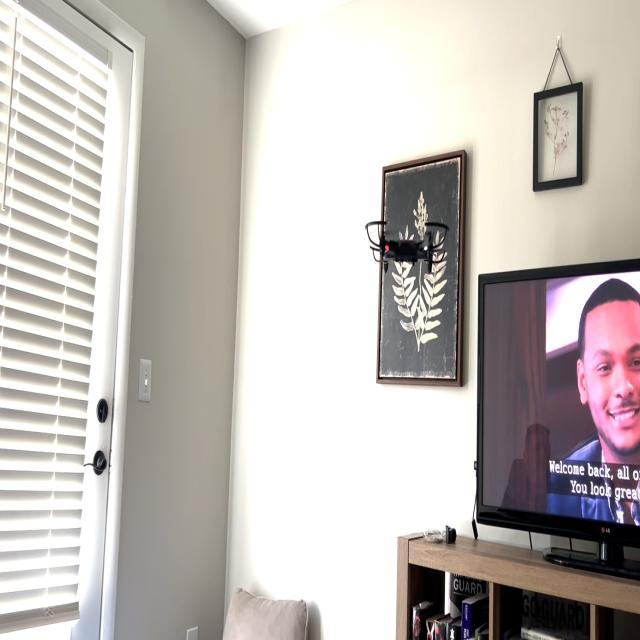drone: (360, 203, 452, 285)
